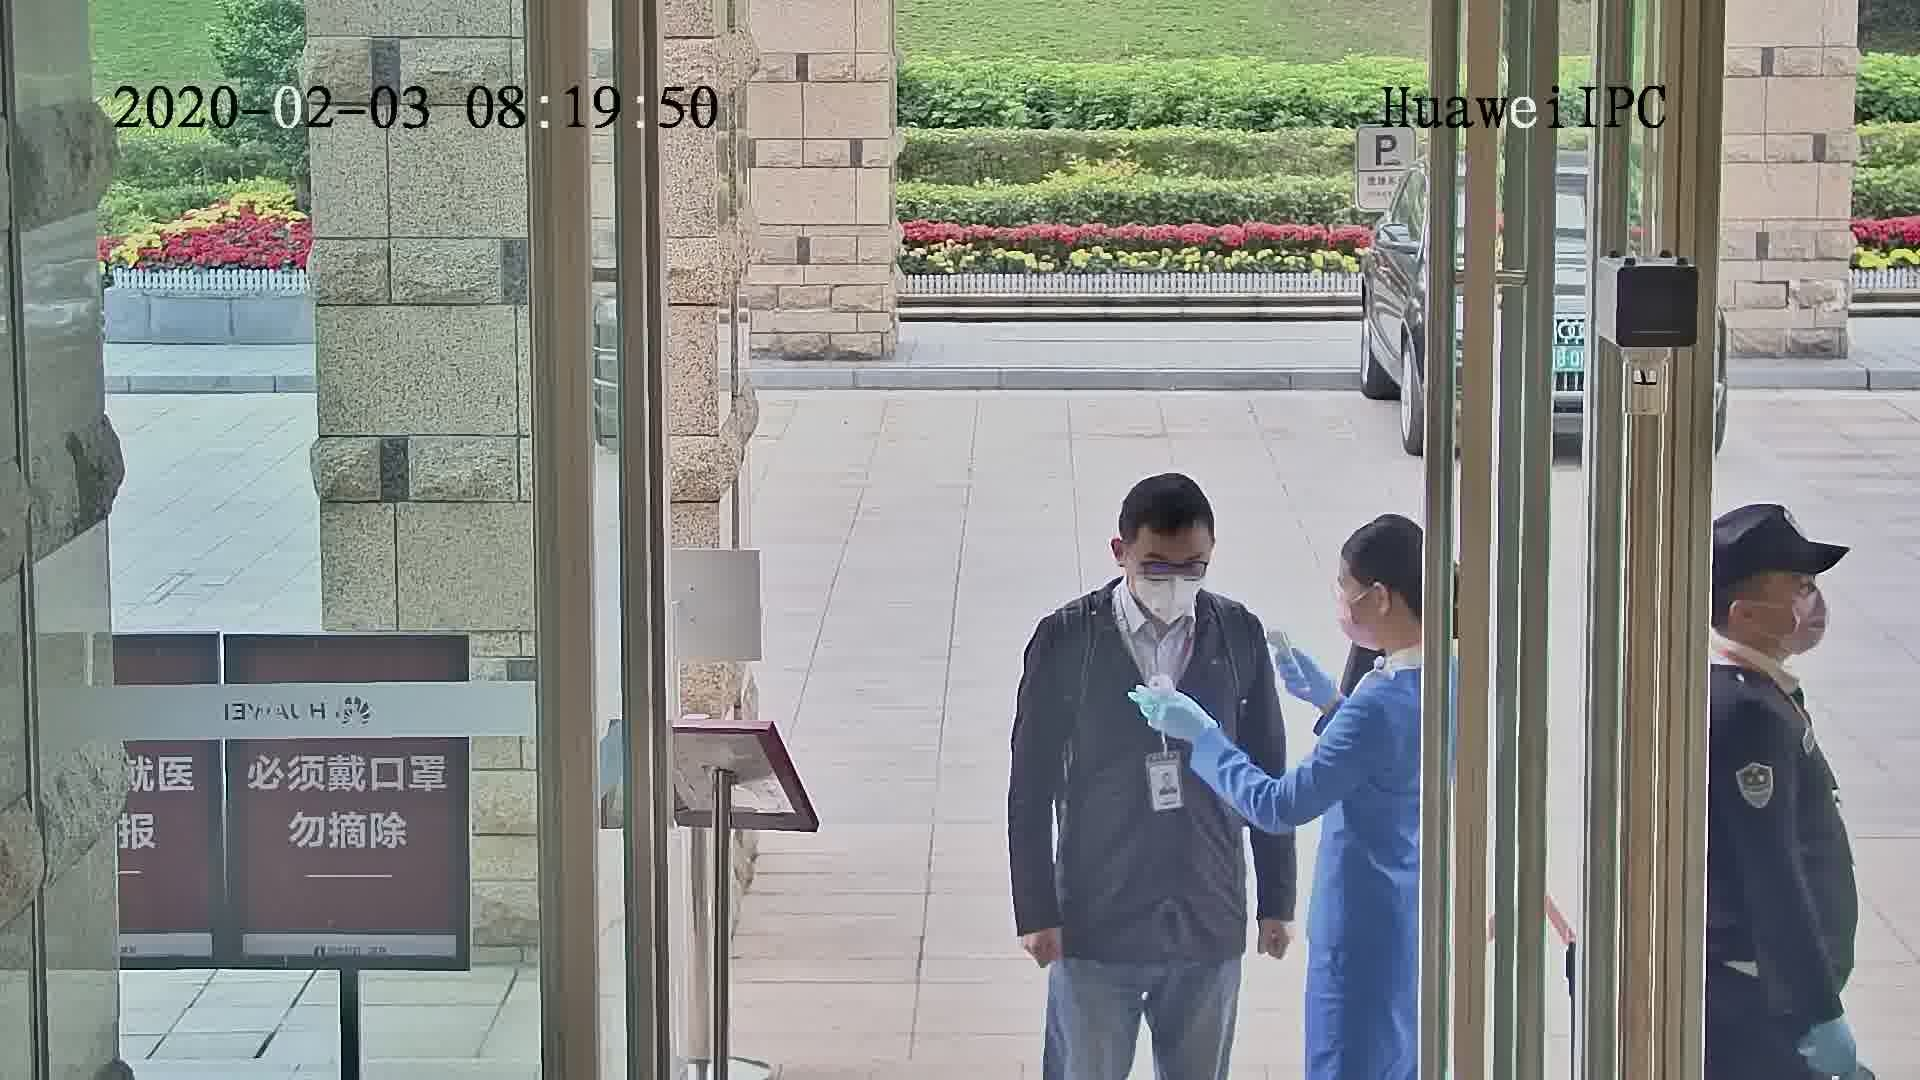face: (1123, 535, 1214, 622), (1771, 582, 1829, 664), (1325, 571, 1380, 651)
mask: (1134, 569, 1209, 624), (1787, 591, 1829, 660), (1336, 595, 1380, 655)
person: (1026, 468, 1273, 676), (1707, 498, 1843, 781), (1329, 505, 1440, 726)
